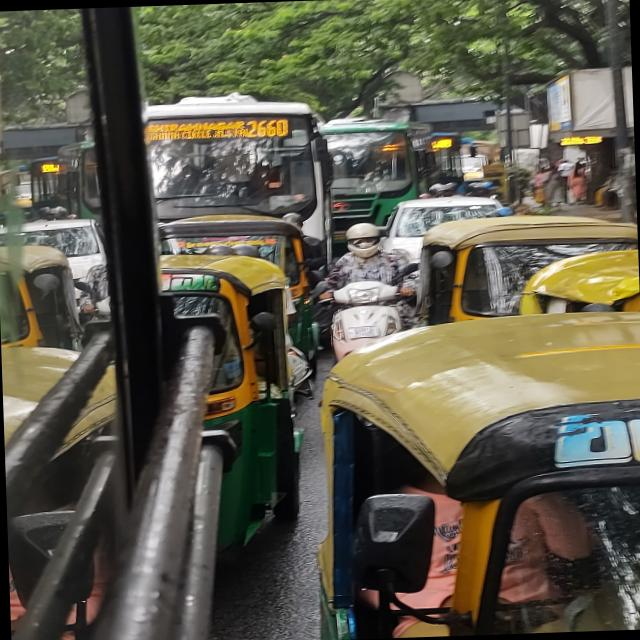bus: (146, 82, 338, 273), (319, 108, 450, 220)
display: (148, 104, 311, 154)
dnumber: (243, 114, 290, 140)
